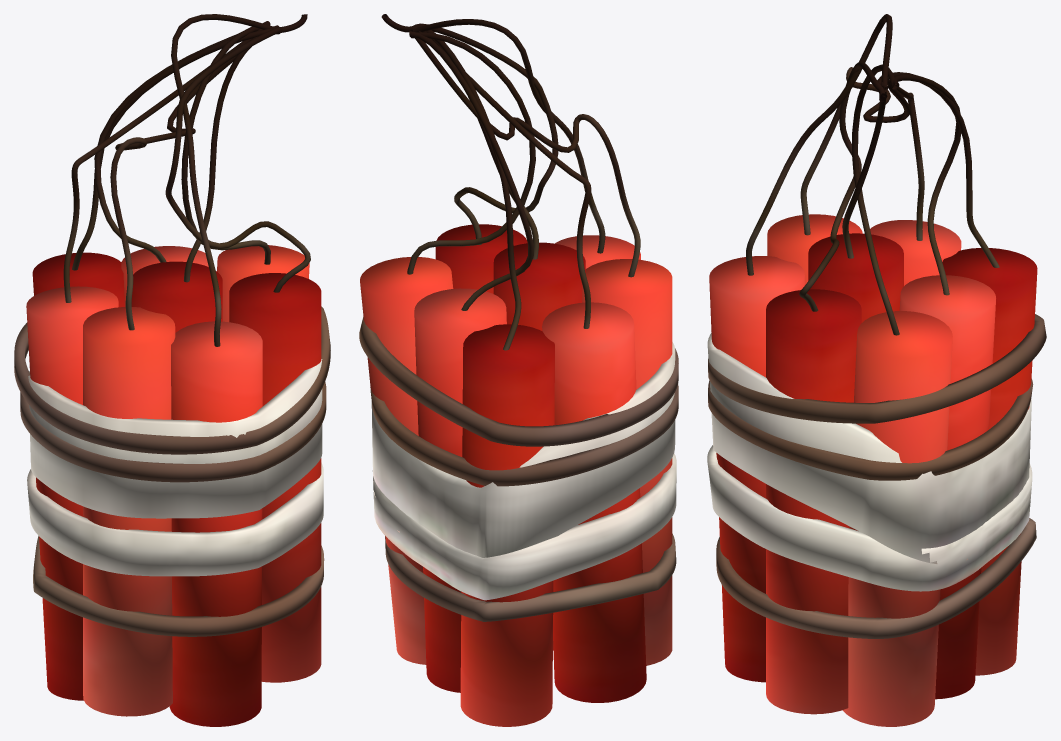
Rendered from dynamit.glb.
The picture shows the model from 3 angles, left to right: view 1: azimuth 30°, elevation 25°; view 2: azimuth 150°, elevation 25°; view 3: azimuth 270°, elevation 25°; orthographic projection. The views are drawn at different scales.
Parts seen in each view (by area): view 1: dynamit; view 2: dynamit; view 3: dynamit.
Boxes of the visible parts, x1,y1,x2,y2 form: dynamit: (14, 14, 330, 726); dynamit: (359, 14, 678, 726); dynamit: (707, 14, 1046, 726).
Bounding box in the file's own units: 2.23 × 4.77 × 2.19.
1 material, 1 textured.
